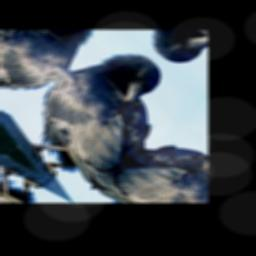Crow: (0, 33, 204, 202)
